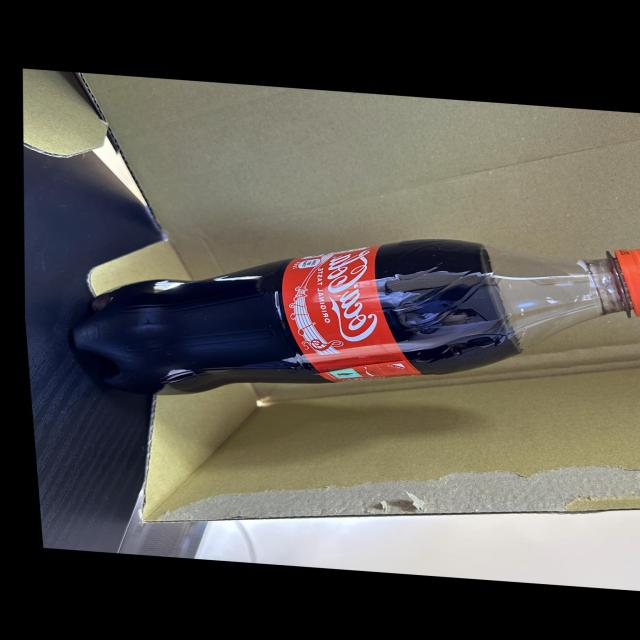high: (72, 239, 640, 394)
